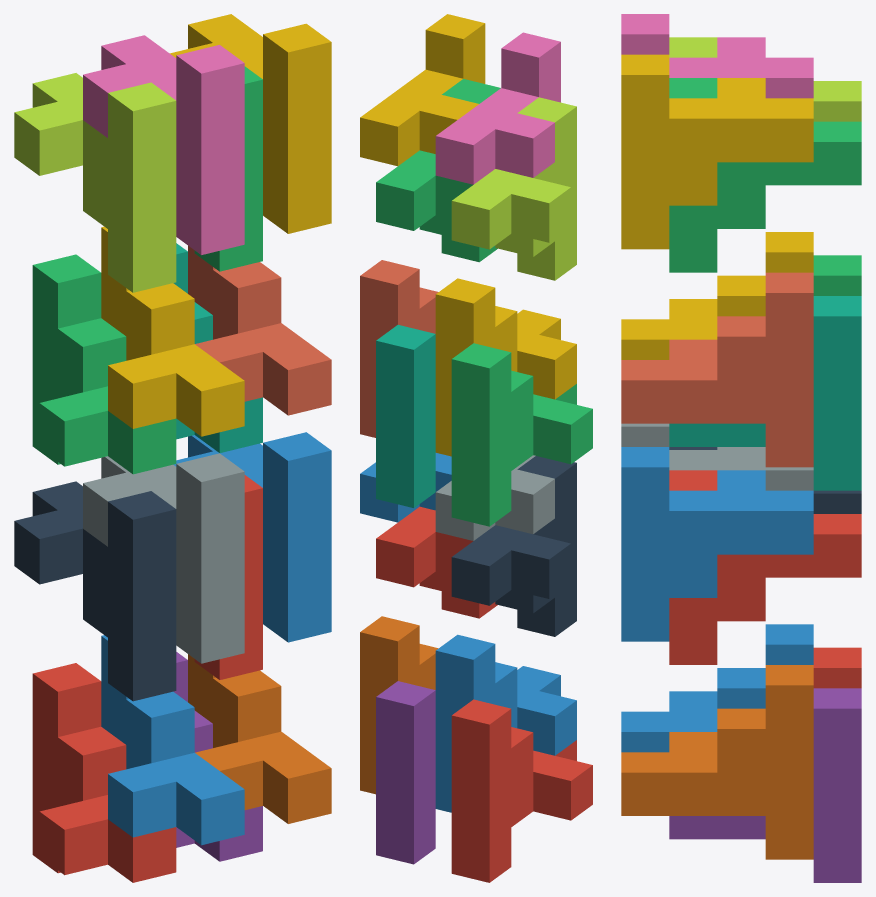
Rendered from tiling.obj.
3 renders of one model, left to right at view 1: azimuth 30°, elevation 25°; view 2: azimuth 150°, elevation 25°; view 3: azimuth 270°, elevation 25°, orthographic. The views are drawn at different scales.
Parts seen in each view (by area): view 1: copy_2_domain_1, copy_2_domain_3, copy_1_domain_3, copy_1_domain_1, copy_2_domain_4, copy_2_domain_2, copy_2_domain_8, copy_1_domain_2, copy_1_domain_4, copy_2_domain_6, copy_1_domain_8, copy_1_domain_6 (+4 smaller); view 2: copy_1_domain_3, copy_1_domain_1, copy_2_domain_3, copy_2_domain_1, copy_2_domain_4, copy_1_domain_4, copy_1_domain_2, copy_1_domain_5, copy_1_domain_7, copy_2_domain_8, copy_2_domain_7, copy_1_domain_6 (+4 smaller); view 3: copy_2_domain_8, copy_2_domain_6, copy_1_domain_8, copy_1_domain_6, copy_2_domain_7, copy_2_domain_5, copy_1_domain_5, copy_1_domain_7, copy_1_domain_4, copy_1_domain_2, copy_2_domain_4, copy_2_domain_2 (+4 smaller).
Boxes of the visible parts, x1,y1,x2,y2 form: copy_2_domain_1: (14, 481, 176, 701); copy_2_domain_3: (14, 73, 176, 292); copy_1_domain_3: (32, 254, 176, 474); copy_1_domain_1: (32, 663, 176, 882); copy_2_domain_4: (83, 35, 244, 254); copy_2_domain_2: (83, 453, 244, 663); copy_2_domain_8: (170, 14, 331, 233); copy_1_domain_2: (101, 635, 244, 845); copy_1_domain_4: (101, 226, 244, 436); copy_2_domain_6: (173, 432, 331, 642); copy_1_domain_8: (188, 245, 331, 415); copy_1_domain_6: (188, 654, 331, 823); copy_1_domain_3: (451, 343, 592, 526); copy_1_domain_1: (451, 699, 592, 882); copy_2_domain_3: (451, 97, 576, 280); copy_2_domain_1: (451, 456, 576, 636); copy_2_domain_4: (435, 32, 560, 184); copy_1_domain_4: (435, 278, 576, 456); copy_1_domain_2: (435, 634, 576, 812); copy_1_domain_5: (376, 681, 435, 864); copy_1_domain_7: (376, 325, 435, 507); copy_2_domain_8: (360, 14, 485, 166); copy_2_domain_7: (376, 79, 500, 262); copy_1_domain_6: (360, 616, 438, 794); copy_2_domain_8: (621, 54, 813, 249); copy_2_domain_6: (621, 447, 813, 641); copy_1_domain_8: (621, 272, 813, 467); copy_1_domain_6: (621, 665, 813, 859); copy_2_domain_7: (669, 78, 861, 272); copy_2_domain_5: (669, 470, 861, 664); copy_1_domain_5: (669, 688, 861, 882); copy_1_domain_7: (669, 296, 861, 490); copy_1_domain_4: (621, 232, 813, 359); copy_1_domain_2: (621, 624, 813, 752); copy_2_domain_4: (621, 14, 813, 98); copy_2_domain_2: (621, 423, 813, 490).
Size of the model in its own units: 5 by 19 by 5.
